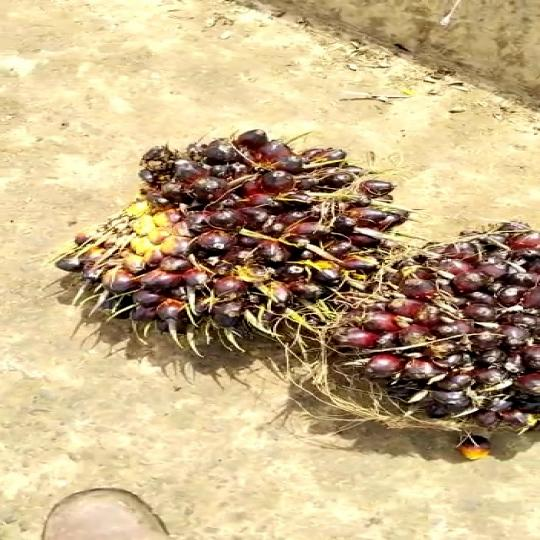kurang masak: (102, 144, 407, 367), (344, 228, 540, 448)
